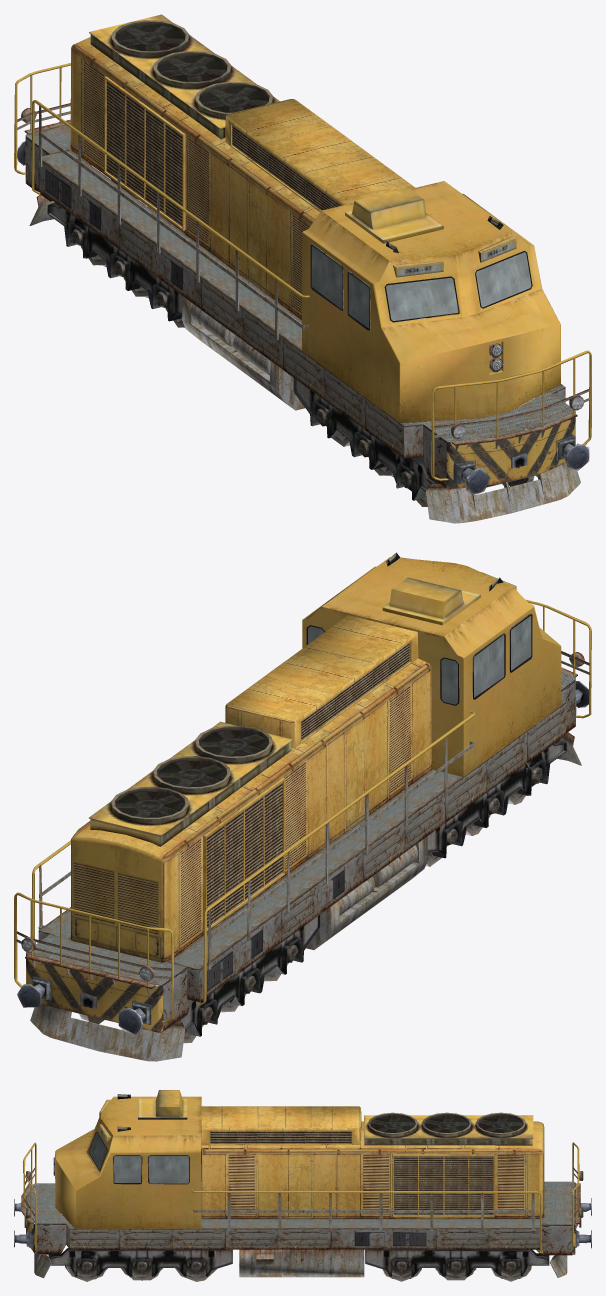
Rendered from loco.glb.
3 renders of one model, top to bottom at view 1: azimuth 30°, elevation 25°; view 2: azimuth 150°, elevation 25°; view 3: azimuth 270°, elevation 25°, orthographic. The views are drawn at different scales.
Visible parts, largest first — view 1: Object_12, Object_8, Object_9, Object_5, Object_3, Object_6, Object_4, Object_7, Object_11, Object_2, Object_14, Object_13; view 2: Object_8, Object_12, Object_9, Object_5, Object_3, Object_6, Object_10, Object_7, Object_4, Object_2, Object_14, Object_11 (+1 smaller); view 3: Object_8, Object_12, Object_5, Object_4, Object_9, Object_7, Object_3, Object_6, Object_11, Object_14, Object_13, Object_10.
Part boxes in pixels (bbox=[...]): Object_12: bbox=[302, 181, 560, 422]; Object_8: bbox=[70, 37, 431, 319]; Object_9: bbox=[17, 14, 589, 494]; Object_5: bbox=[26, 137, 565, 488]; Object_3: bbox=[17, 103, 589, 523]; Object_6: bbox=[26, 123, 575, 441]; Object_4: bbox=[47, 187, 534, 507]; Object_7: bbox=[106, 80, 340, 226]; Object_11: bbox=[311, 244, 531, 328]; Object_2: bbox=[25, 136, 575, 489]; Object_14: bbox=[14, 63, 591, 480]; Object_13: bbox=[50, 179, 532, 330]; Object_8: bbox=[72, 615, 431, 961]; Object_12: bbox=[302, 557, 561, 776]; Object_9: bbox=[17, 552, 588, 1034]; Object_5: bbox=[27, 679, 575, 1031]; Object_3: bbox=[16, 651, 589, 1061]; Object_6: bbox=[26, 671, 575, 985]; Object_10: bbox=[70, 837, 164, 962]; Object_7: bbox=[206, 642, 409, 927]; Object_4: bbox=[79, 740, 566, 1043]; Object_2: bbox=[26, 679, 575, 1032]; Object_14: bbox=[14, 599, 591, 1022]; Object_11: bbox=[308, 615, 531, 704]; Object_8: bbox=[201, 1106, 542, 1218]; Object_12: bbox=[55, 1096, 201, 1228]; Object_5: bbox=[36, 1178, 572, 1255]; Object_4: bbox=[48, 1215, 549, 1281]; Object_9: bbox=[14, 1090, 591, 1248]; Object_7: bbox=[210, 1131, 493, 1215]; Object_3: bbox=[21, 1157, 582, 1278]; Object_6: bbox=[26, 1181, 575, 1228]; Object_11: bbox=[89, 1133, 189, 1183]; Object_14: bbox=[23, 1142, 579, 1252]; Object_13: bbox=[88, 1127, 201, 1184]; Object_10: bbox=[542, 1123, 544, 1217].
Bounding box in the file's own units: 3.6 × 5.03 × 16.05.
13 materials, 12 textured.
